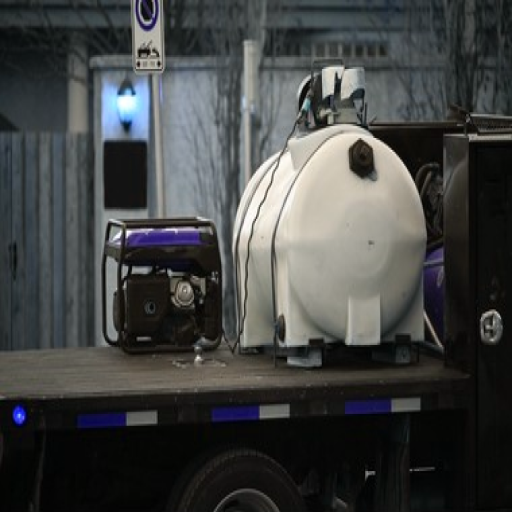portable_generator: (102, 216, 226, 357)
